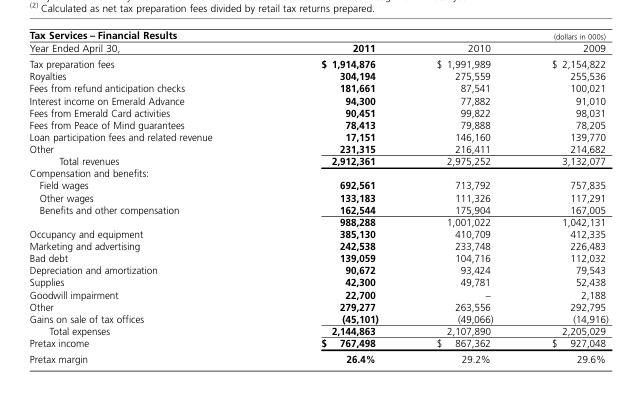table: (28, 28, 607, 364)
table column: (28, 28, 266, 364), (266, 28, 406, 364), (406, 28, 521, 364), (521, 28, 607, 364)
table column header: (28, 28, 607, 55)
table projected row header: (28, 166, 607, 178)
table row: (28, 41, 607, 55), (28, 55, 607, 69), (28, 336, 607, 350), (28, 350, 607, 364), (28, 28, 607, 41), (28, 105, 607, 118), (28, 202, 607, 215), (28, 287, 607, 300), (28, 69, 607, 81), (28, 81, 607, 93), (28, 93, 607, 105), (28, 118, 607, 130), (28, 130, 607, 142), (28, 142, 607, 154), (28, 154, 607, 166), (28, 166, 607, 178), (28, 178, 607, 190), (28, 190, 607, 202), (28, 215, 607, 227), (28, 227, 607, 239), (28, 239, 607, 251), (28, 251, 607, 263), (28, 263, 607, 275), (28, 275, 607, 287), (28, 300, 607, 312), (28, 312, 607, 324), (28, 324, 607, 336)
table spanning cell: (28, 28, 521, 41), (521, 28, 607, 55)
